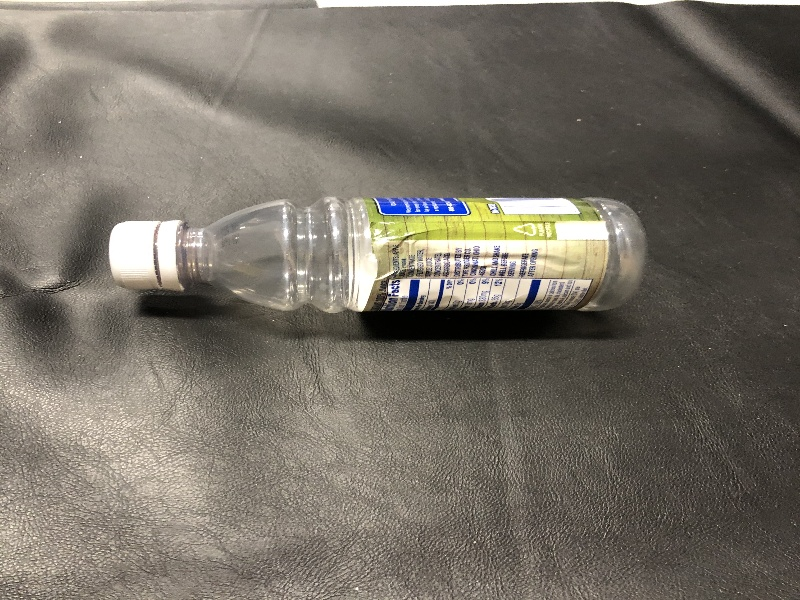plastic: (98, 179, 648, 344)
